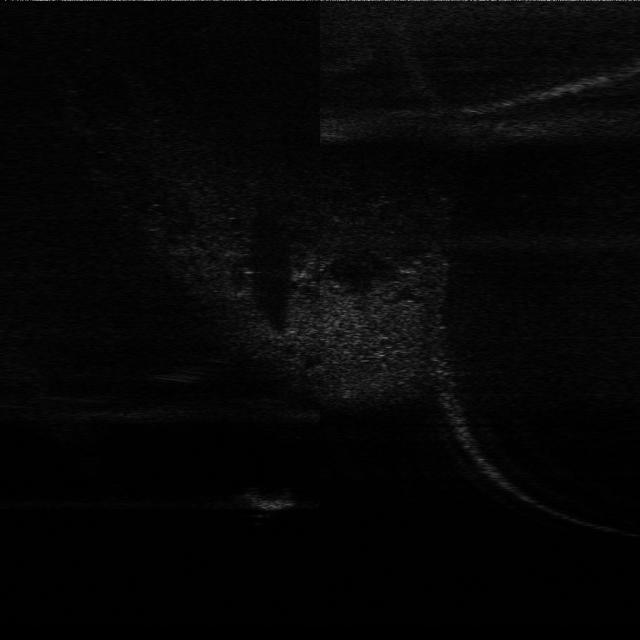square cage: (242, 483, 298, 516)
